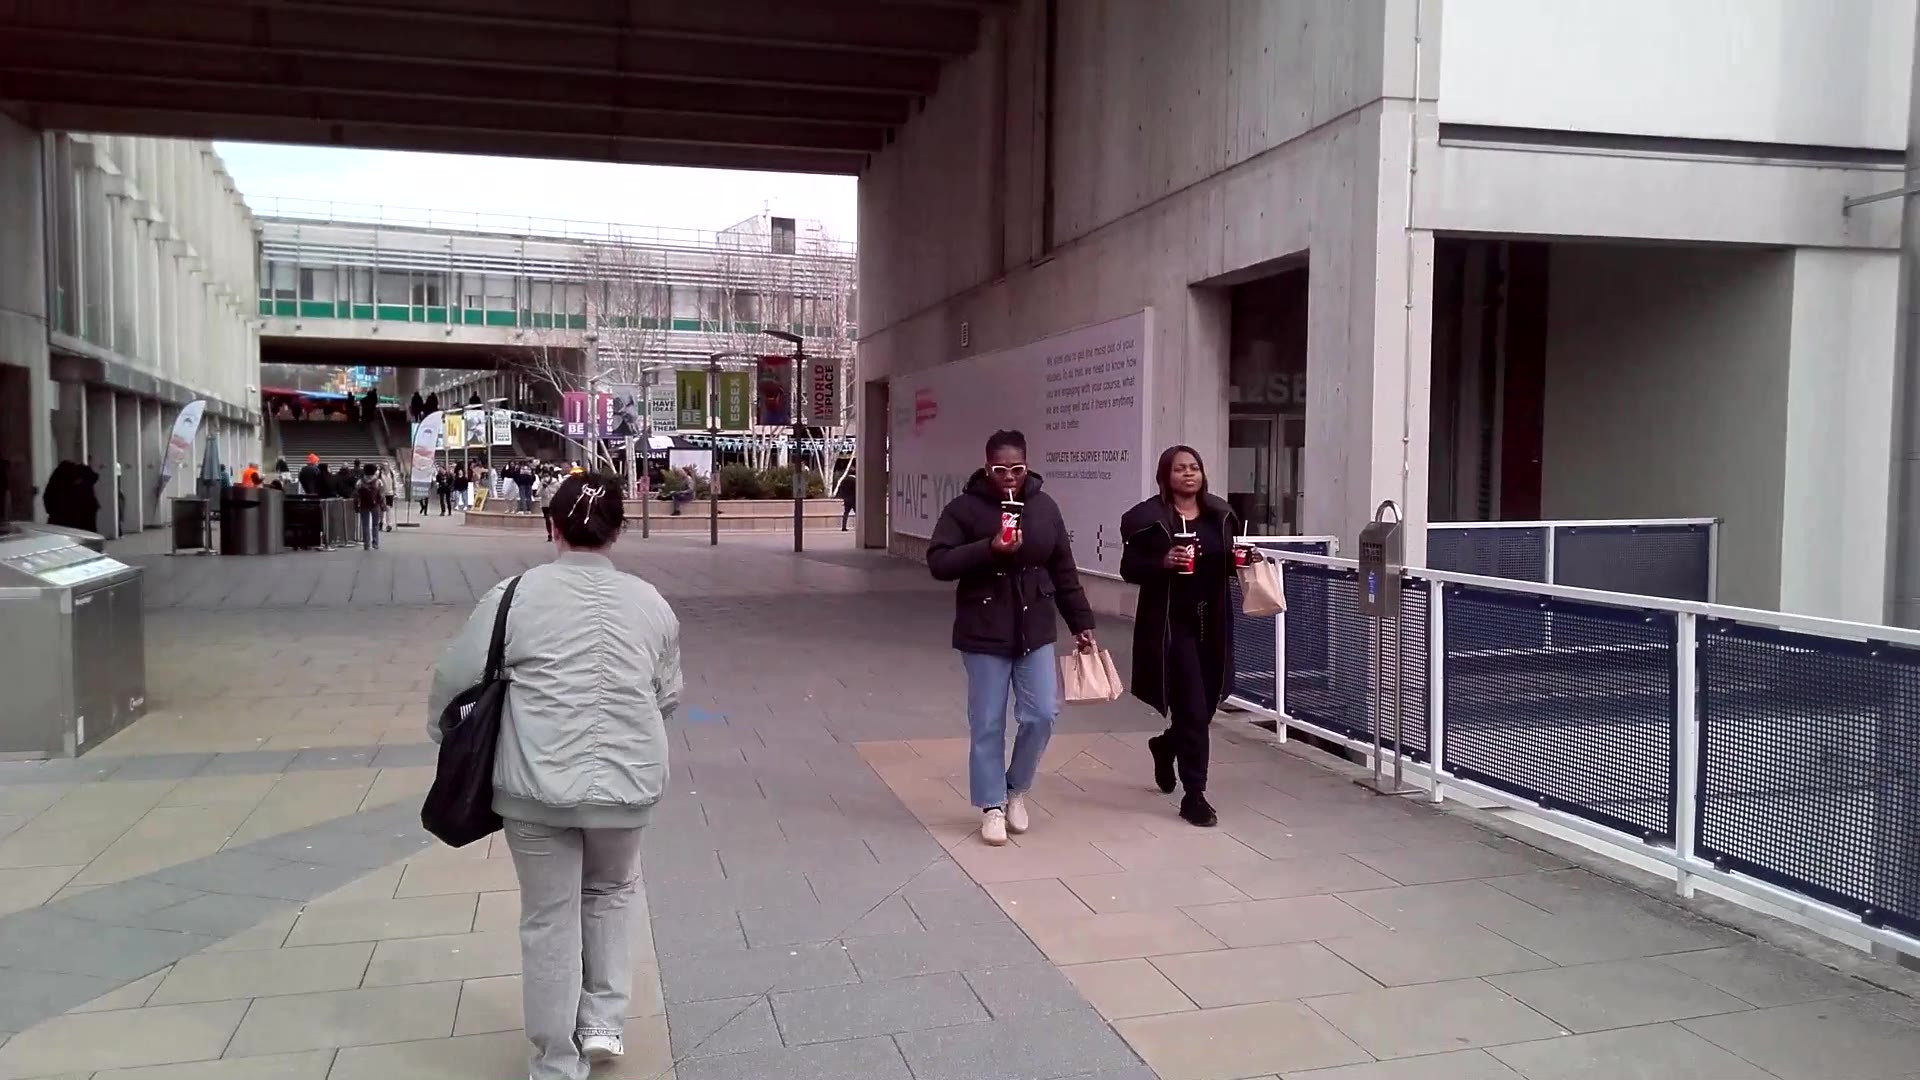Backpack: (433, 677, 516, 861)
Bin: (1, 527, 142, 766), (225, 487, 289, 555)
Person: (485, 475, 664, 1080), (962, 426, 1056, 849), (1140, 441, 1225, 829)
